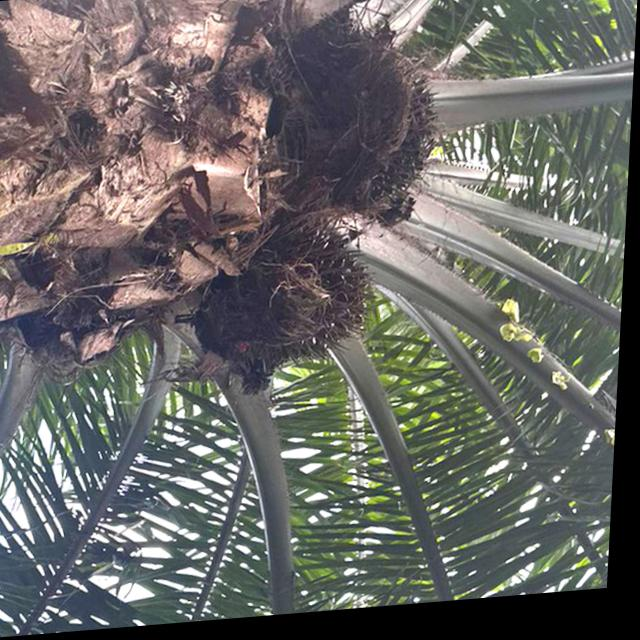ripe: (324, 17, 447, 239), (219, 228, 384, 387)
